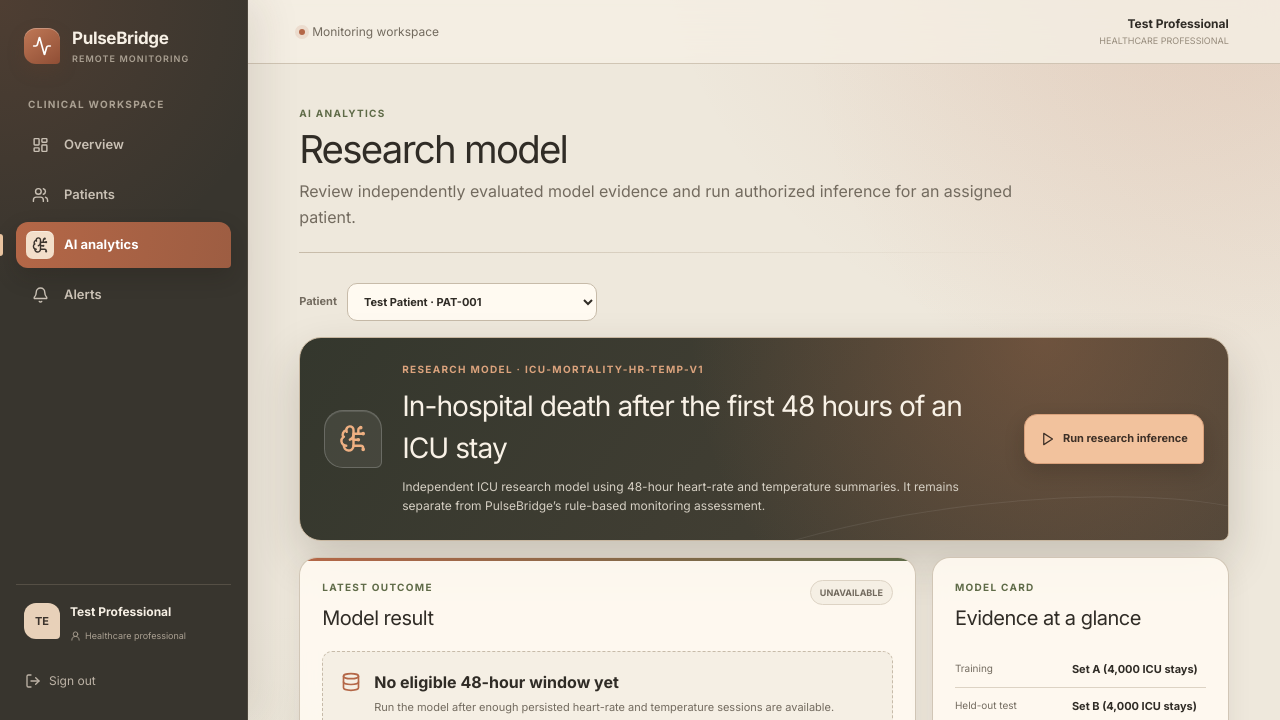
AI analytics workspace › keeps unavailable inference explicit instead of presenting rule-based fallback as ML
Click the button "Run research inference": (1114, 439) [1024,414,1204,464]
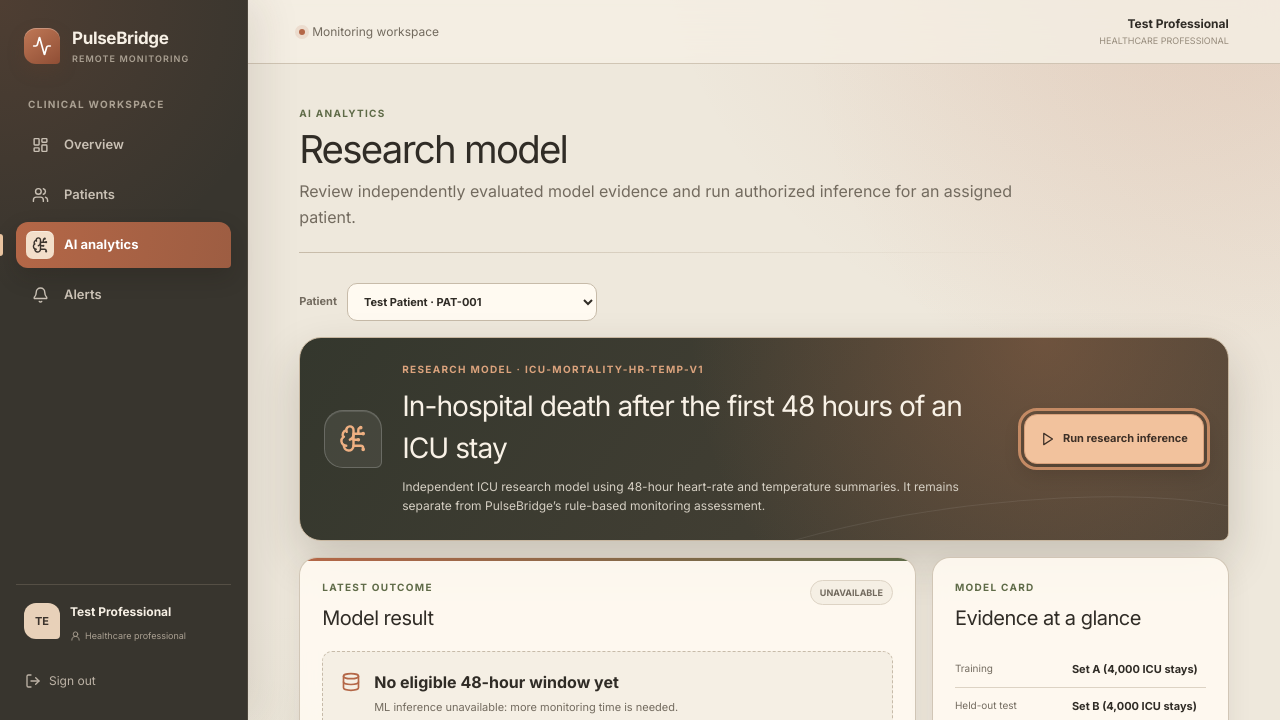
Expected: the text "Unavailable" is shown, [810,580,893,605]
Expected: the text "ML inference unavailable: more monitoring time is needed." is shown, [374,698,678,716]
